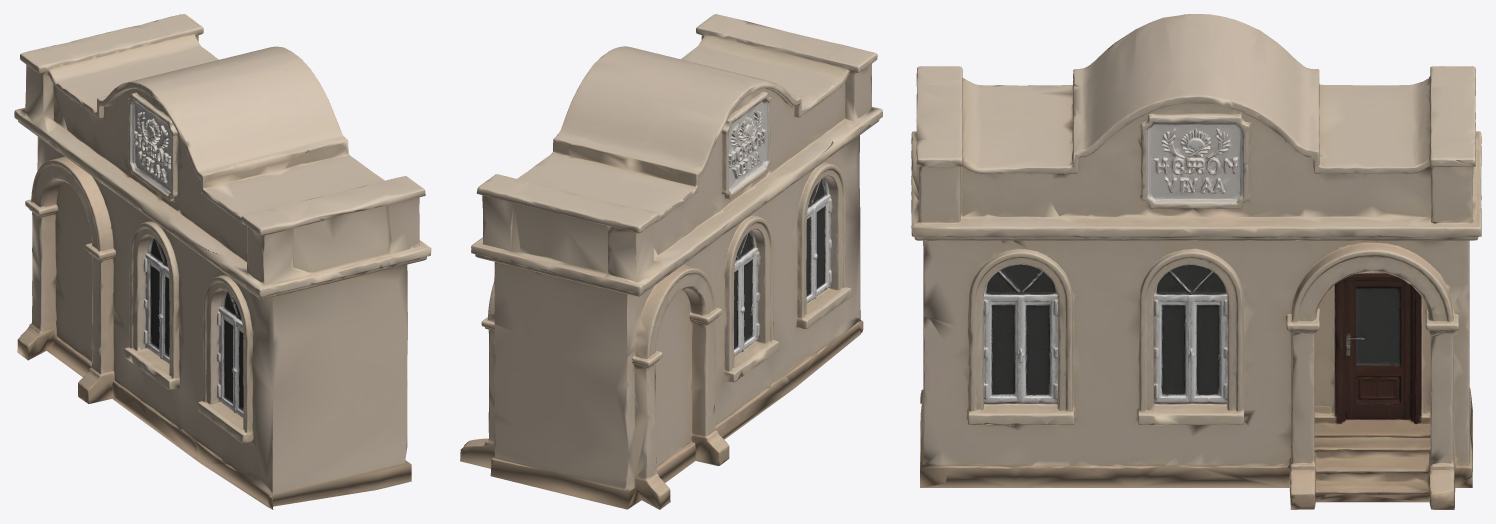
Rendered from HebronVilla.glb.
The picture shows the model from 3 angles, left to right: view 1: azimuth 30°, elevation 25°; view 2: azimuth 150°, elevation 25°; view 3: azimuth 270°, elevation 25°; orthographic projection. The views are drawn at different scales.
Parts seen in each view (by area): view 1: tripo_node_d1afb8a2-af1e-4930-93b4-1ea942399393; view 2: tripo_node_d1afb8a2-af1e-4930-93b4-1ea942399393; view 3: tripo_node_d1afb8a2-af1e-4930-93b4-1ea942399393.
Part boxes in pixels (x1,y1,x2,y2): tripo_node_d1afb8a2-af1e-4930-93b4-1ea942399393: (14,14,431,509); tripo_node_d1afb8a2-af1e-4930-93b4-1ea942399393: (460,14,882,509); tripo_node_d1afb8a2-af1e-4930-93b4-1ea942399393: (911,14,1481,509).
Bounding box in the file's own units: 0.4684 × 0.7478 × 0.981.
1 material, 1 textured.
